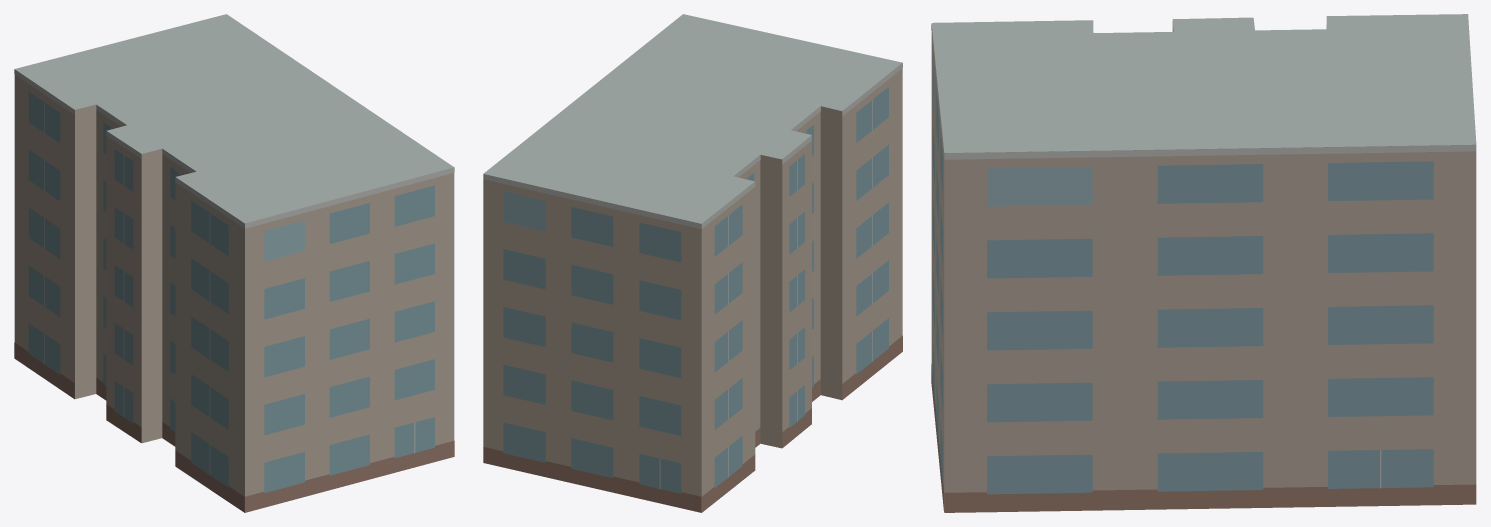
Rendered from survey-upis-32873793.glb.
3 views of the same model, side by side, from view 1: azimuth 30°, elevation 25°; view 2: azimuth 150°, elevation 25°; view 3: azimuth 270°, elevation 25° (orthographic). The views are drawn at different scales.
Parts seen in each view (by area): view 1: survey-upis-32873793.tmp; view 2: survey-upis-32873793.tmp; view 3: survey-upis-32873793.tmp.
Boxes of the visible parts, x1=… form: survey-upis-32873793.tmp: x1=14, y1=14, x2=454, y2=512; survey-upis-32873793.tmp: x1=483, y1=14, x2=902, y2=512; survey-upis-32873793.tmp: x1=931, y1=14, x2=1476, y2=512.
Bounding box in the file's own units: 10.95 × 13.2 × 18.13.
